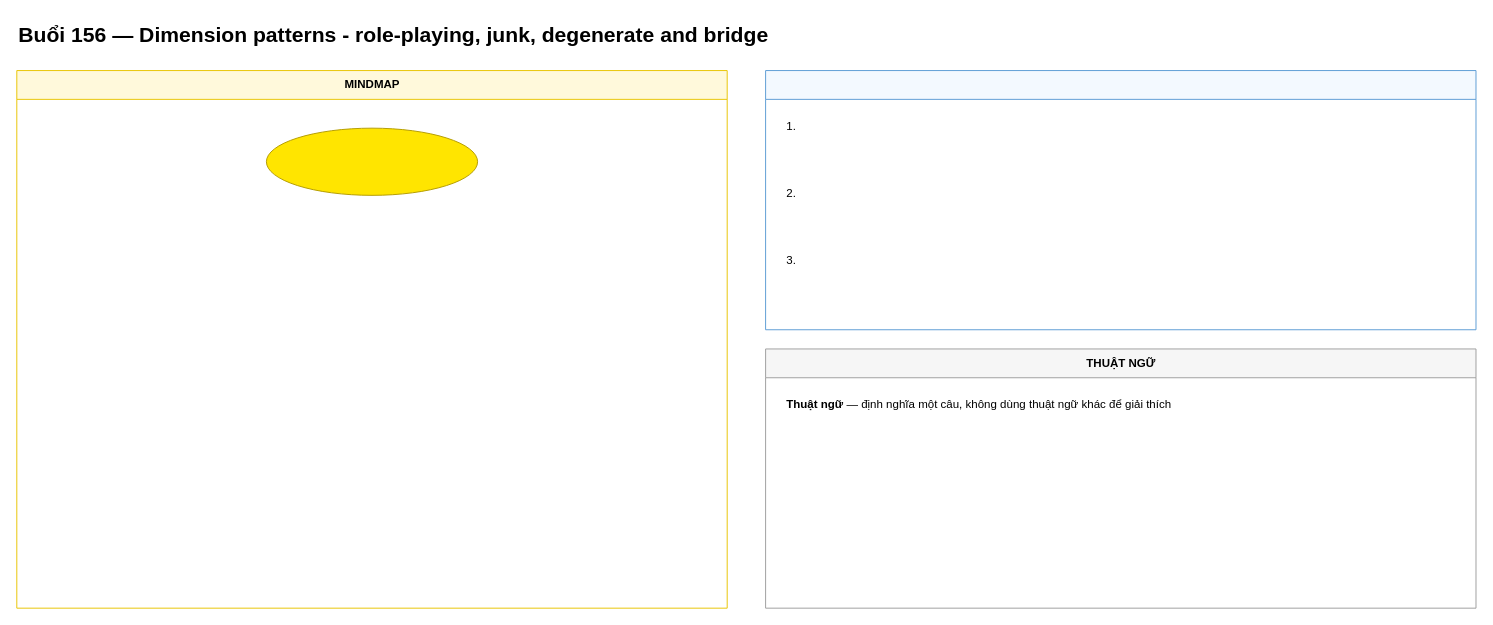
Some shapes in this 1493 by 625 pixel diagram are drawn without their labels. The box of each missing label's shape, as (x1, y1, x2, y2) in pixels:
Dimension patterns - role-playing, junk, degenerate and bridge: (265, 127, 478, 195)
KEY TAKEAWAY — ba điều phải nhớ: (765, 70, 1476, 330)
